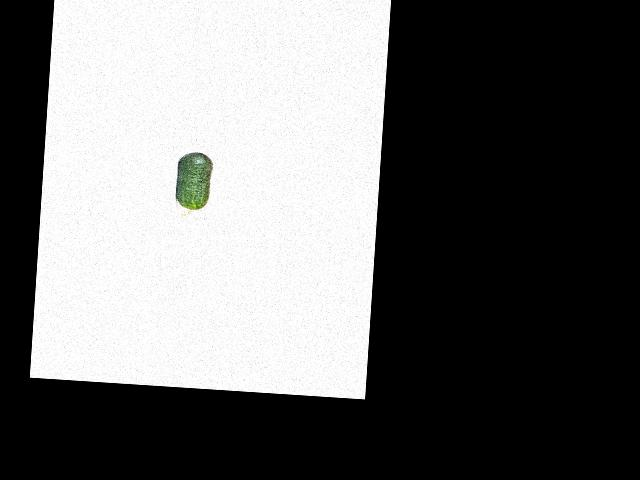cucumber: (174, 151, 213, 217)
